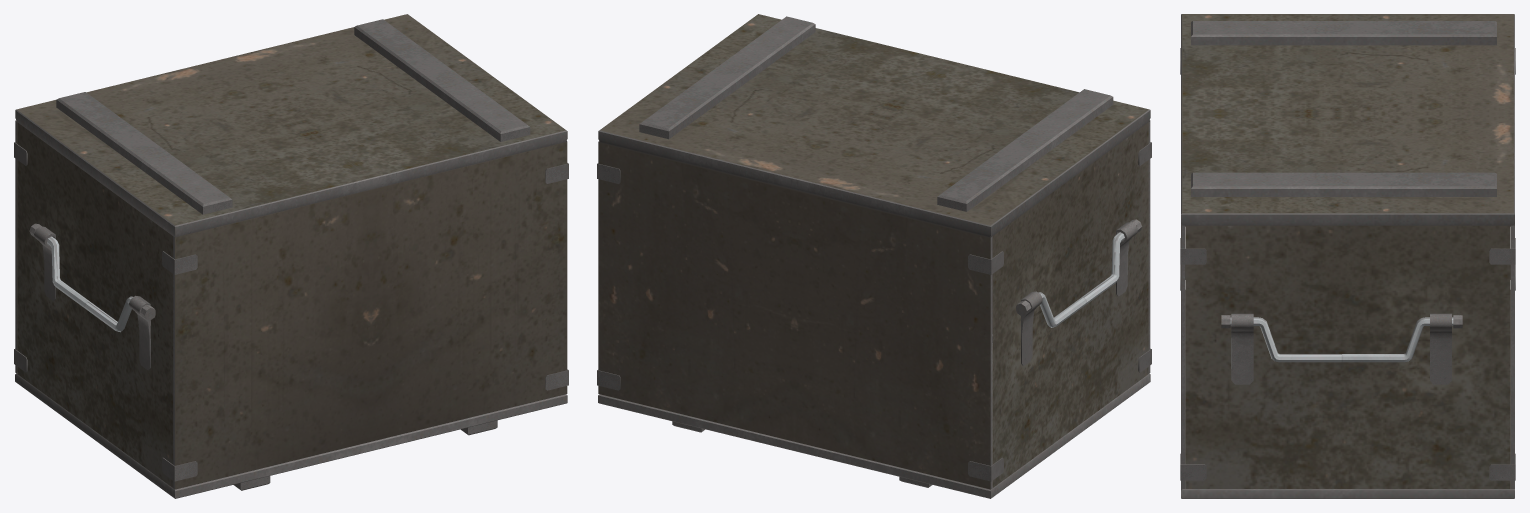
File: metal_crate_2.glb
3 views of the same model, side by side, from view 1: azimuth 30°, elevation 25°; view 2: azimuth 150°, elevation 25°; view 3: azimuth 270°, elevation 25° (orthographic). The views are drawn at different scales.
Visible parts, largest first — view 1: metal_crate_2; view 2: metal_crate_2; view 3: metal_crate_2.
Part boxes in pixels (box(x1,y1,x2,y2)): metal_crate_2: box(14, 14, 568, 498); metal_crate_2: box(597, 14, 1151, 498); metal_crate_2: box(1180, 14, 1515, 498).
Size of what is drawn, in the model's own units: 0.8275 by 0.5534 by 0.5485.
Materials: 1 (1 with a texture image).
